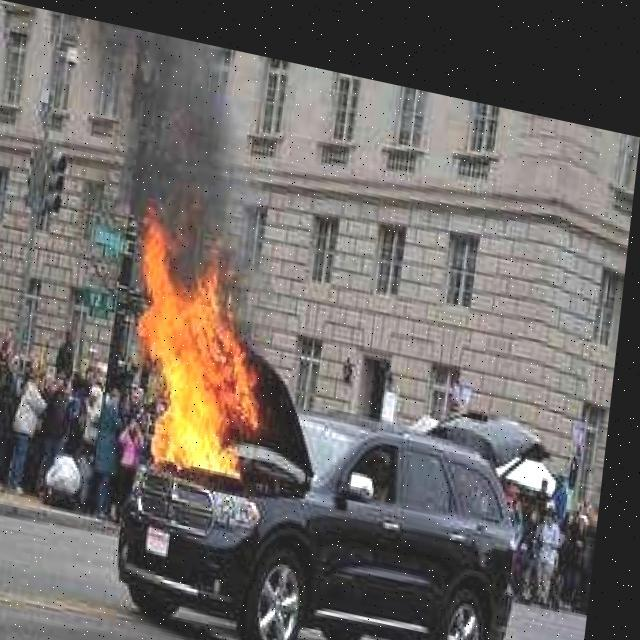Fire: (124, 204, 320, 515)
